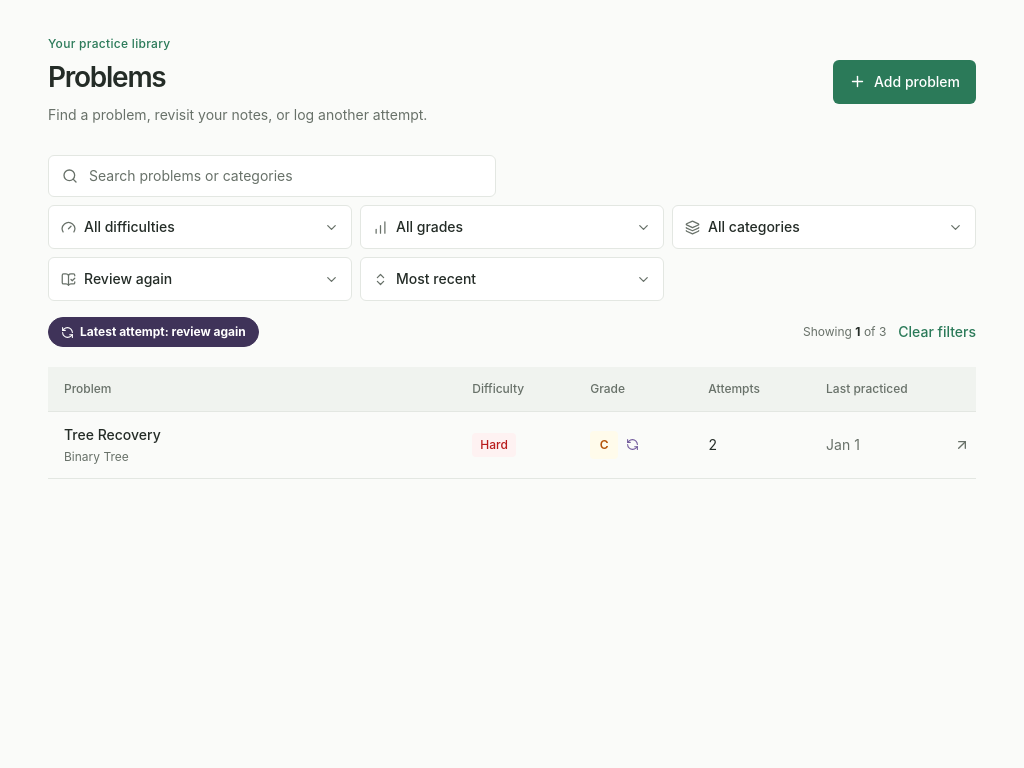
Scenario: ProblemsView navigation and search › combines search with review status and restores the library when cleared
Type "array" into the field labelled "Search problems or categories" at (272, 176), box 48,155 -> 496,197
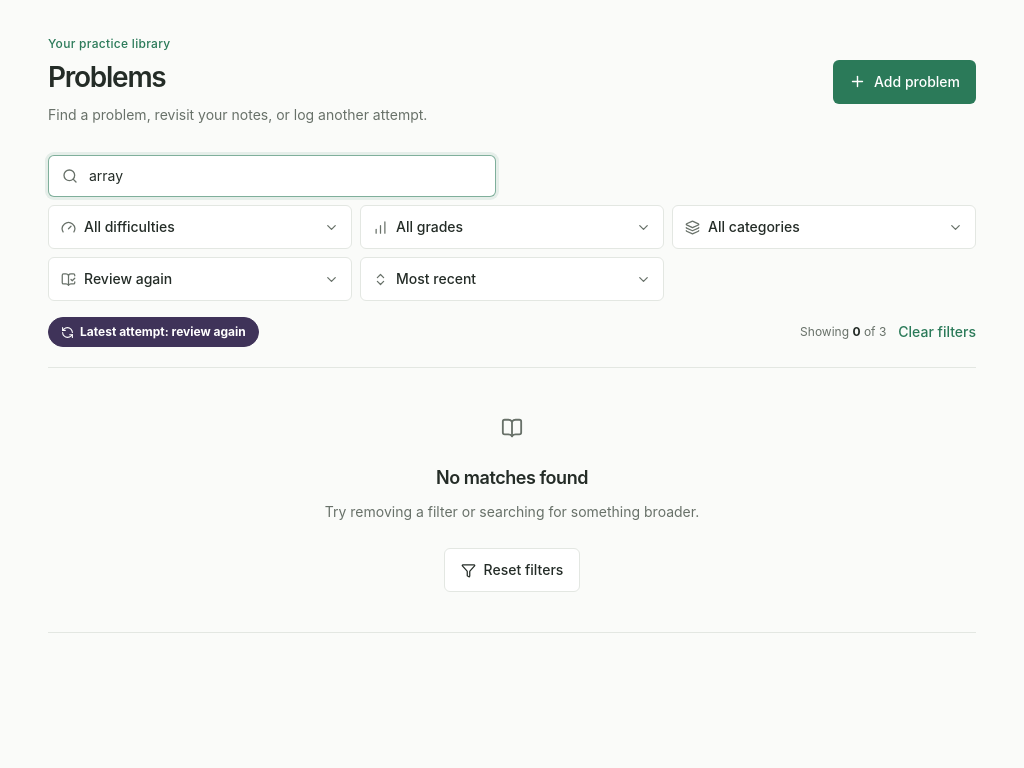
Expected: the heading "No matches found" is shown, 436,467 -> 588,488
Click the button "Reset filters" at (512, 570), box 444,548 -> 580,592
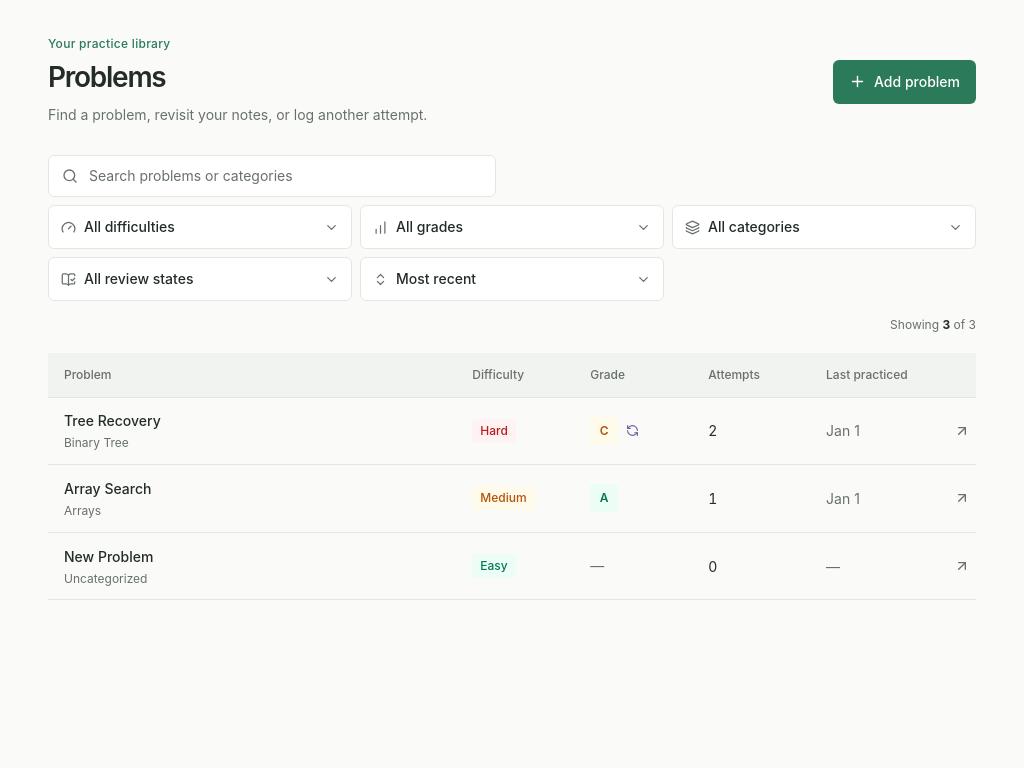
Expected: the button "Tree Recovery" is shown, 64,410 -> 161,431
Expected: the button "Array Search" is shown, 64,478 -> 151,499
Expected: the button "New Problem" is shown, 64,546 -> 153,567
